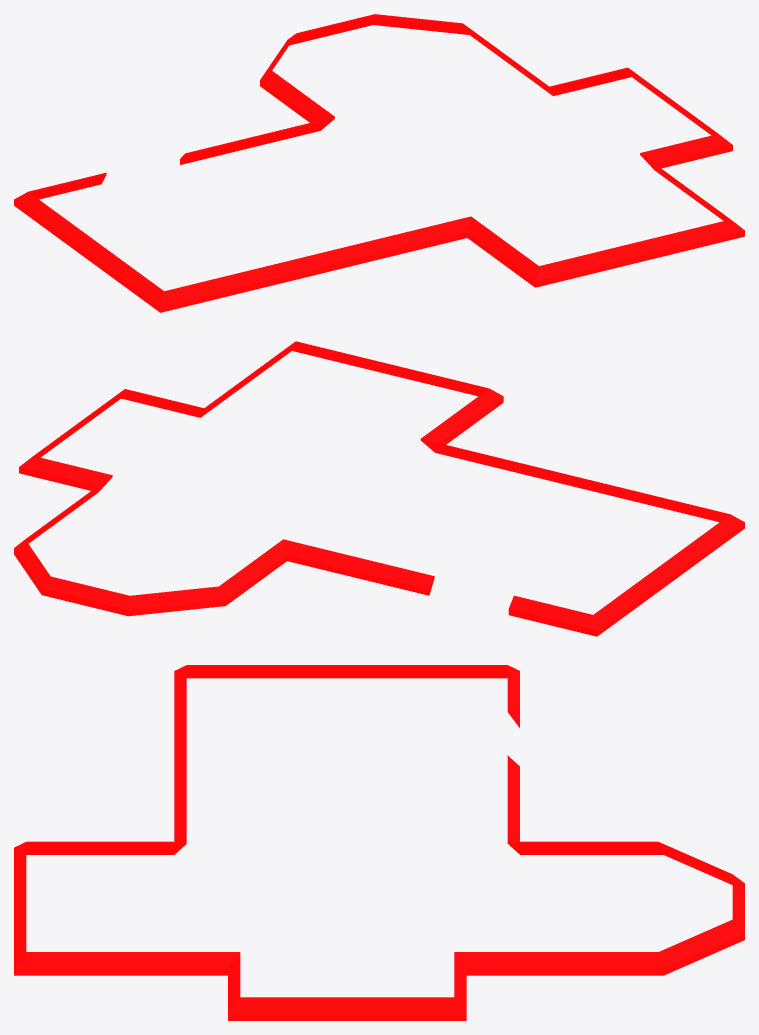
Rendered from HouseBase.fbx.
3 views of the same model, one above another, from view 1: azimuth 30°, elevation 25°; view 2: azimuth 150°, elevation 25°; view 3: azimuth 270°, elevation 25° (orthographic). The views are drawn at different scales.
Parts seen in each view (by area): view 1: PROP_woodLineBase; view 2: PROP_woodLineBase; view 3: PROP_woodLineBase.
Part boxes in pixels (bbox=[...]): PROP_woodLineBase: bbox=[14, 14, 744, 312]; PROP_woodLineBase: bbox=[14, 341, 744, 636]; PROP_woodLineBase: bbox=[14, 665, 744, 1020].
Bounding box in the file's own units: 758 × 18.99 × 683.
